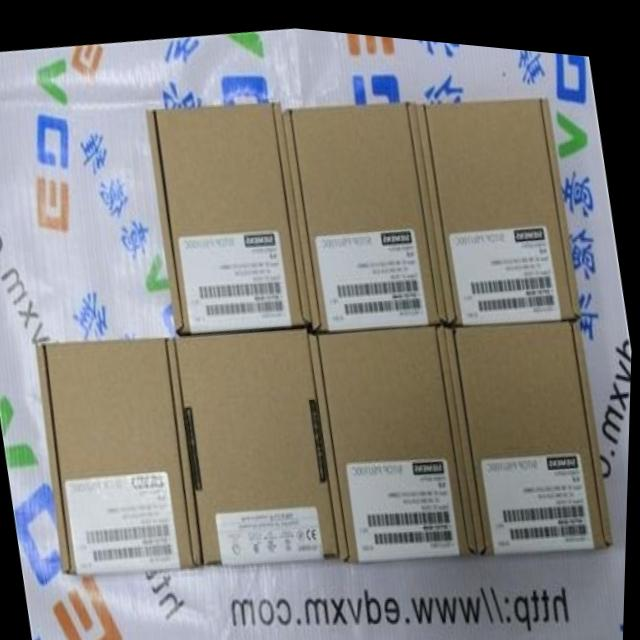box: (310, 315, 480, 557), (37, 333, 206, 574), (446, 308, 616, 547), (175, 321, 342, 561), (147, 95, 313, 330), (281, 93, 449, 325), (415, 86, 583, 315)
